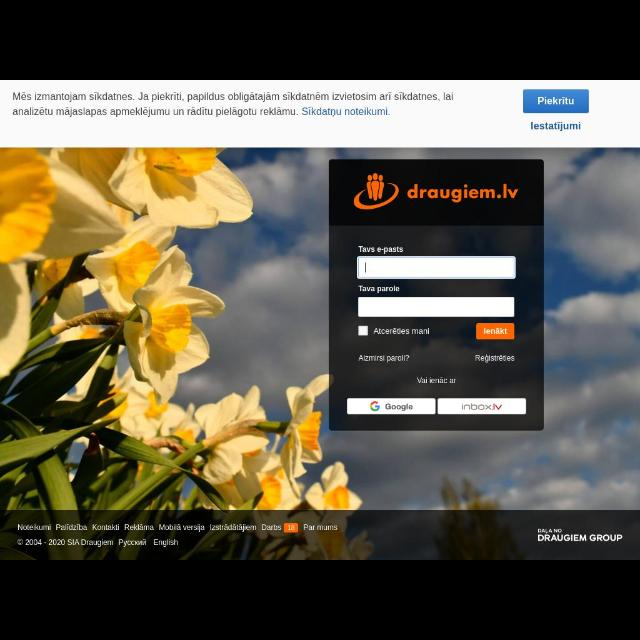backgroundimage: (1, 148, 639, 558)
button: (347, 398, 435, 414), (438, 398, 526, 414)
checkbox: (358, 327, 368, 335)
image: (330, 160, 544, 226), (371, 402, 414, 412), (462, 404, 502, 410), (284, 524, 298, 532)
input: (357, 258, 515, 278), (358, 298, 514, 316)
text: (13, 93, 453, 117), (18, 538, 114, 548), (538, 533, 622, 541), (531, 122, 581, 132), (159, 524, 205, 532), (210, 524, 256, 532), (359, 246, 403, 254), (373, 328, 429, 334), (358, 285, 399, 293), (358, 356, 409, 362), (476, 355, 514, 363), (416, 377, 456, 383), (119, 539, 147, 547), (538, 98, 574, 104), (302, 524, 338, 530), (18, 524, 50, 530), (56, 524, 88, 530), (154, 539, 178, 547), (124, 524, 154, 530), (92, 524, 120, 530), (484, 328, 508, 334), (261, 525, 281, 531), (538, 529, 562, 533)
textbutton: (524, 90, 588, 112), (476, 324, 514, 340)
